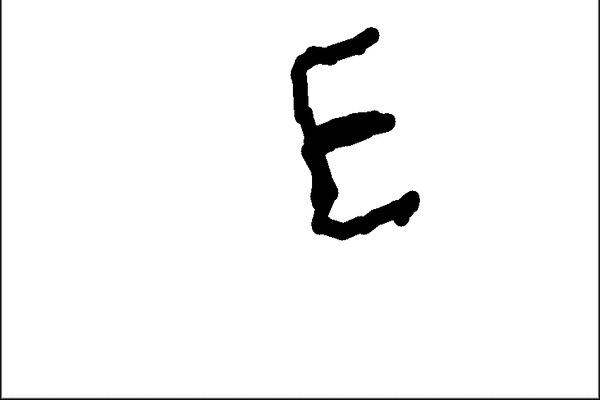E: (284, 23, 424, 245)
